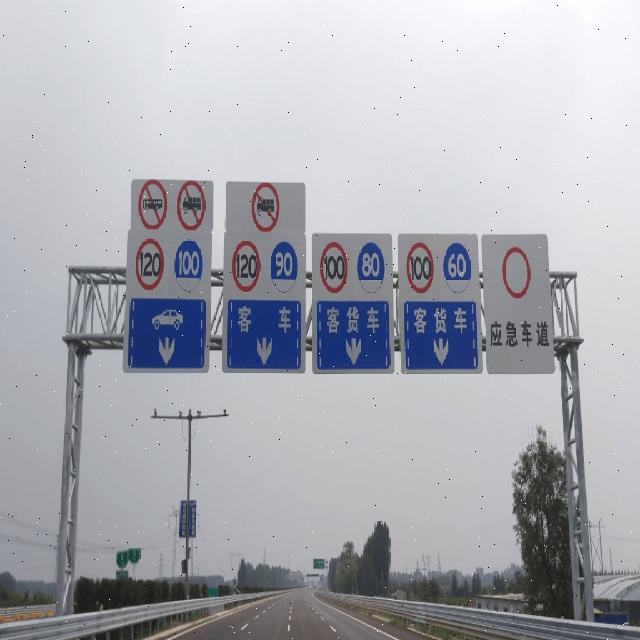speed limit 100: (174, 237, 203, 292), (320, 242, 348, 293), (407, 241, 433, 293)
speed limit 120: (231, 239, 261, 293), (136, 238, 164, 290)
speed limit 60: (442, 241, 472, 294)
speed limit 80: (356, 239, 384, 294)
speed limit 90: (270, 242, 298, 294)
